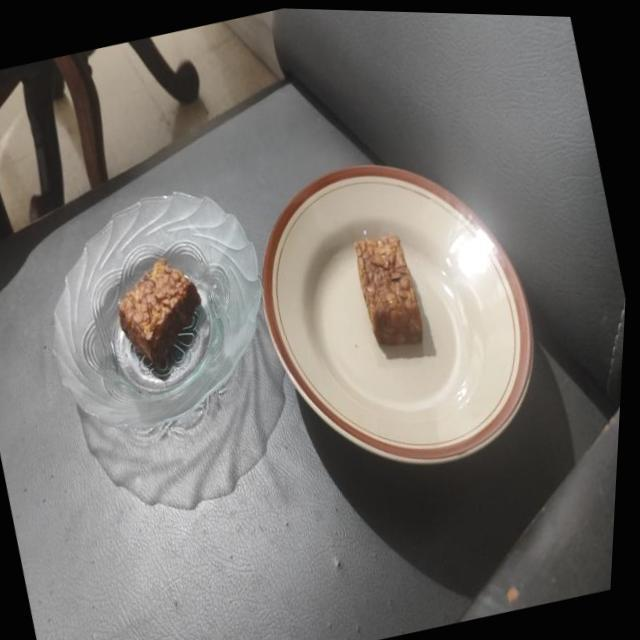tempe_goreng: (118, 258, 200, 364), (354, 236, 422, 344)
